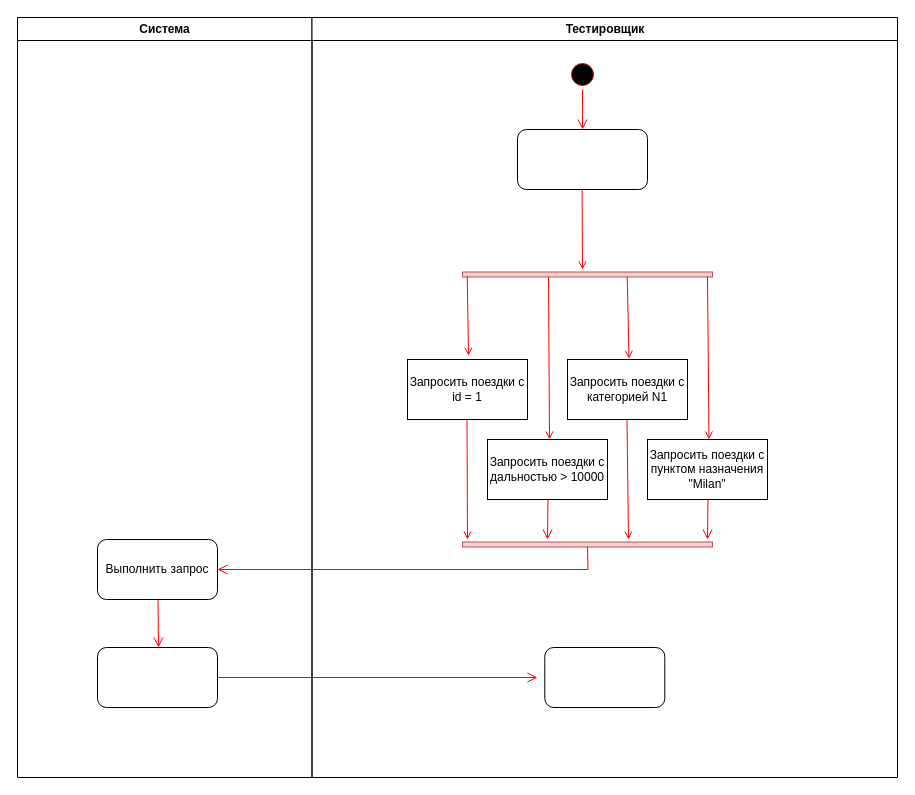
Some shapes in this 915 by 795 pixel diagram are drawn without their labels. Here are the shapes that lost their labels. From the top down, the box of each, then its label:
(516, 128, 648, 190): Запустить программу
(96, 646, 218, 708): Вернуть результат
(544, 646, 665, 708): Получить рузультат
